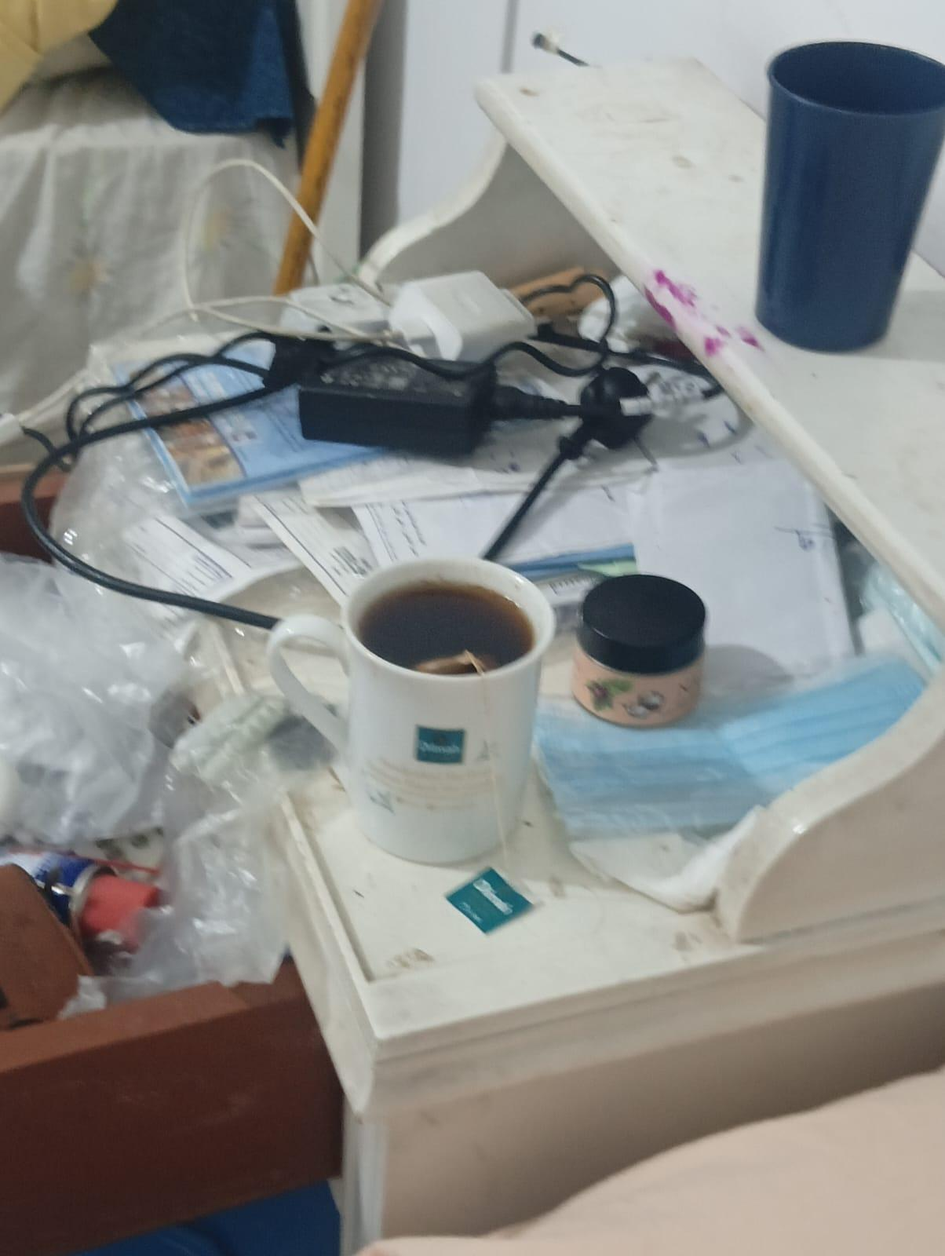cup: (266, 559, 555, 864), (755, 41, 944, 352), (341, 558, 540, 694), (767, 40, 944, 119)
